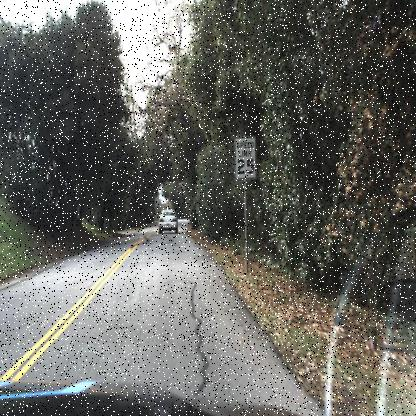car: (156, 205, 180, 237)
